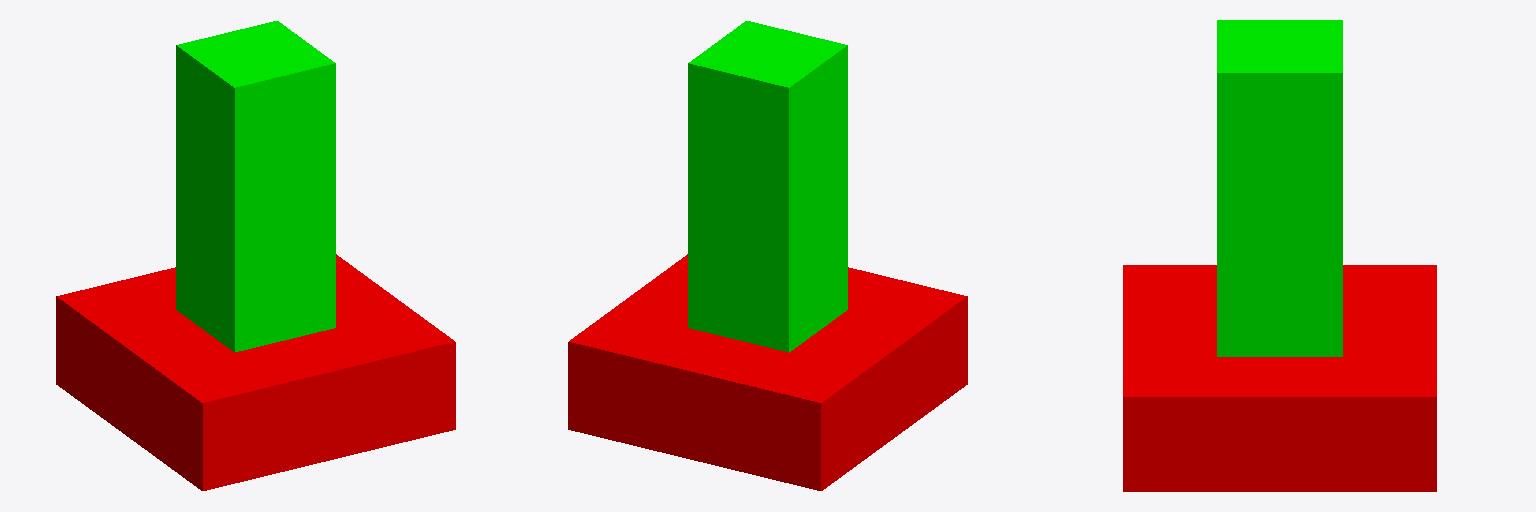
URDF robot description (a0912):
<?xml version="1.0" ?>
<robot name="a0912">
   <link name="world"/>

   <joint name="joint_1" type="fixed">
    <origin xyz="0.0 0.0 0.05" rpy="0.0 0.0 0.00"/>
    <parent link="world"/>
    <child link="link_1"/>
   </joint>

   <link name="link_1">
    <inertial>
        <origin xyz="0.0 0.0 0.0" rpy="0.0 0.0 0.0"/>
        <mass value="0.0"/>
        <inertia ixx="0.0" ixy="0.0" ixz="0.0" iyy="0.0" iyz="0.0" izz="0.0"/>
    </inertial>
    <visual name="link1">
        <origin xyz="0.0 0.0 0.0" rpy="0.0 0.0 0.0"/>
        <geometry>
            <box size="0.3 0.3 0.1"/>
        </geometry>
        <material name="1">
            <color rgba="1.0 0.0 0.0 1.0"/>
        </material>
    </visual>
    <collision>
        <origin xyz="0.0 0.0 0.0" rpy="0.0 0.0 0.0"/>
        <geometry>
            <box size="0.0 0.0 0.0"/>
        </geometry>
    </collision>
   </link>

   <joint name="joint_2" type="revolute">
    <origin xyz="0.0 0.0 0.20" rpy="0.0 0.0 0.0"/>
    <parent link="link_1"/>
    <child link="link_2"/>
    <axis xyz="0.0 0.0 1.0"/>
    <limit lower="-3.14" upper="3.14" effort="5.0" velocity="0.2"/>
   </joint>
   
   <link name="link_2">
    <inertial>
        <origin xyz="0.12 0.1 0.20" rpy="0.0 0.0 0.0"/>
        <mass value="0.0"/>
        <inertia ixx="0.10" ixy="0.10" ixz="0.10" iyy="0.20" iyz="0.20" izz="0.20"/>
    </inertial>
    <visual name="link1">
        <origin xyz="0.0 0.0 0.0" rpy="0.0 0.0 0.0"/>
        <geometry>
            <box size="0.12 0.12 0.3"/>
        </geometry>
        <material name="">
            <color rgba="0.0 1.0 0.0 1.0"/>
        </material>
    </visual>
    <collision>
        <origin xyz="0.0 0.0 0.0" rpy="0.0 0.0 0.0"/>
        <geometry>
            <box size="0.0 0.0 0.0"/>
        </geometry>
    </collision>
   </link>

</robot>

--- What the picture shows (computed from the rendered views, not written in the file) ---
3 views of the same robot in one strip: view 1: azimuth 30°, elevation 25°; view 2: azimuth 150°, elevation 25°; view 3: azimuth 270°, elevation 25° (orthographic).
Model a0912 with 3 links and 2 joints (1 revolute, 1 fixed), rooted at world, posed all joints at 0.
Links seen in each view (by area): view 1: link_1, link_2; view 2: link_1, link_2; view 3: link_1, link_2.
Link boxes in pixels (bbox=[...]): link_1: bbox=[56, 254, 455, 490]; link_2: bbox=[176, 21, 335, 352]; link_1: bbox=[568, 254, 967, 490]; link_2: bbox=[688, 21, 847, 352]; link_1: bbox=[1123, 265, 1436, 491]; link_2: bbox=[1217, 20, 1342, 356].
Bounding box of the posed robot: 0.3 × 0.3 × 0.4 m (x, y, z).
Geometry: primitives only (box / cylinder / sphere), no mesh files.
